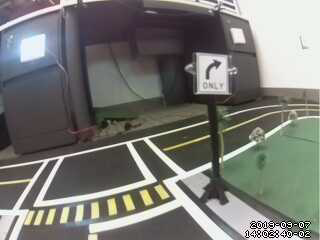Right_only_sign: (191, 49, 231, 100)
